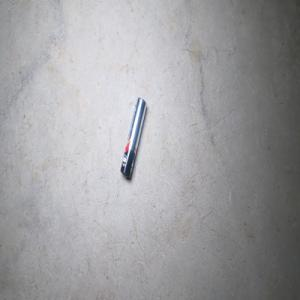Battery: (120, 97, 147, 179)
